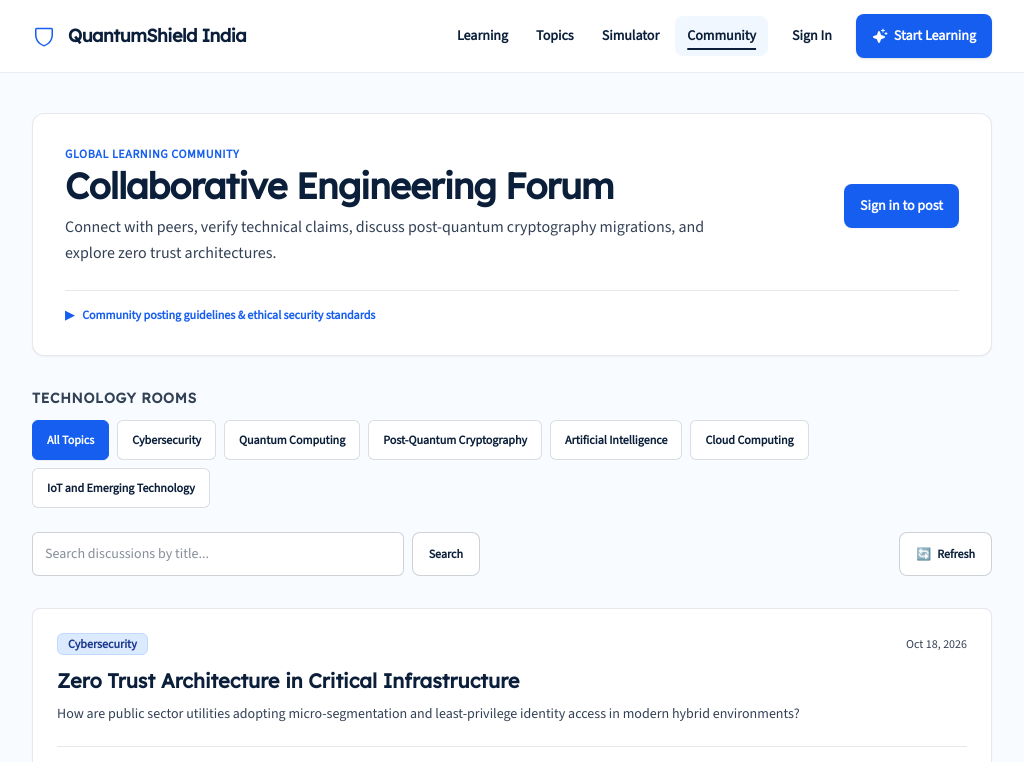
Test case: Global Learning Community Integration Flow › filters discussions when selecting a topic room
Expected: the link "Zero Trust Architecture in Critical Infrastructure" is shown, x1=57 y1=668 x2=520 y2=693
// Click on Post-Quantum Cryptography room
Click the button "Post-Quantum Cryptography": coordinates (455, 440) x1=368 y1=420 x2=542 y2=460
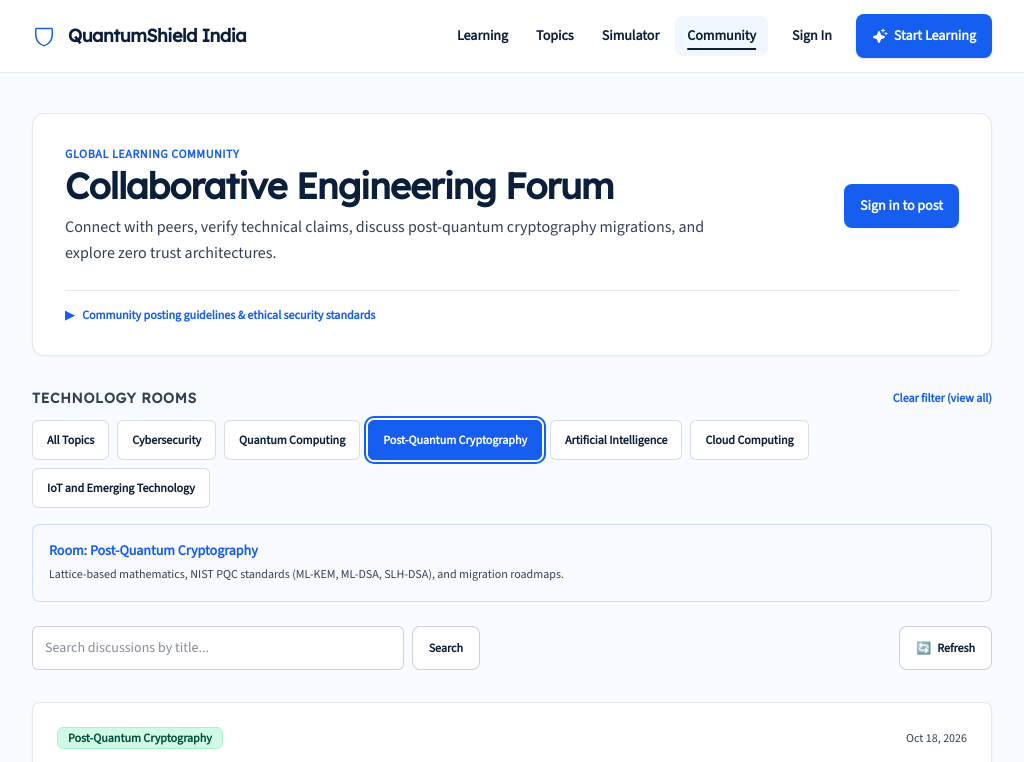
Now the text "Room: Post-Quantum Cryptography" is shown, box x1=49 y1=541 x2=258 y2=560
